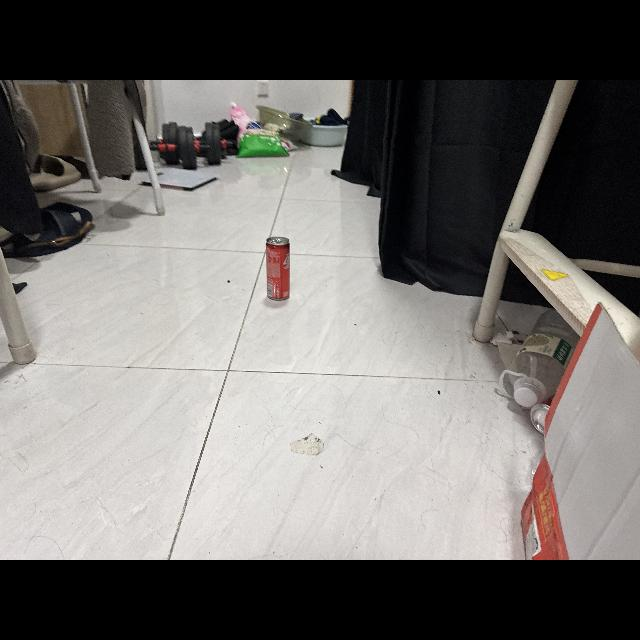Cola: (260, 234, 302, 306)
